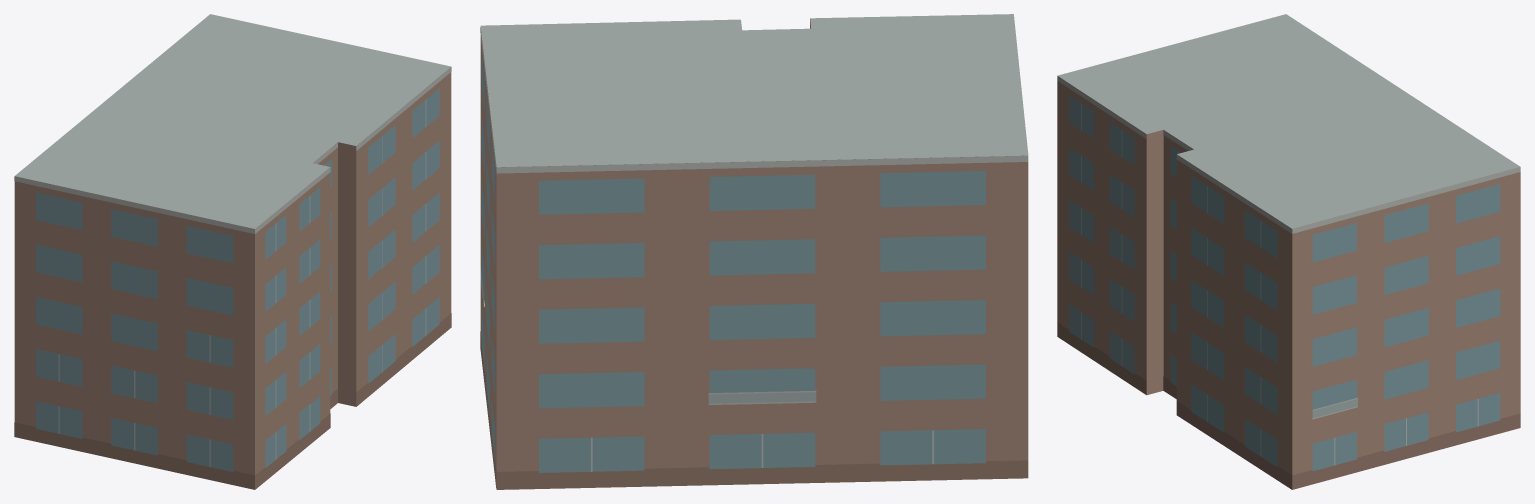
Rendered from survey-upis-32620690.glb.
The picture shows the model from 3 angles, left to right: view 1: azimuth 30°, elevation 25°; view 2: azimuth 150°, elevation 25°; view 3: azimuth 270°, elevation 25°; orthographic projection. The views are drawn at different scales.
Parts seen in each view (by area): view 1: survey-upis-32620690.tmp; view 2: survey-upis-32620690.tmp; view 3: survey-upis-32620690.tmp.
Part boxes in pixels (box(x1,y1,x2,y2)): survey-upis-32620690.tmp: box(14, 14, 451, 489); survey-upis-32620690.tmp: box(480, 14, 1028, 489); survey-upis-32620690.tmp: box(1057, 14, 1520, 489).
Size of the model in its own units: 22.07 by 12.5 by 20.11.
